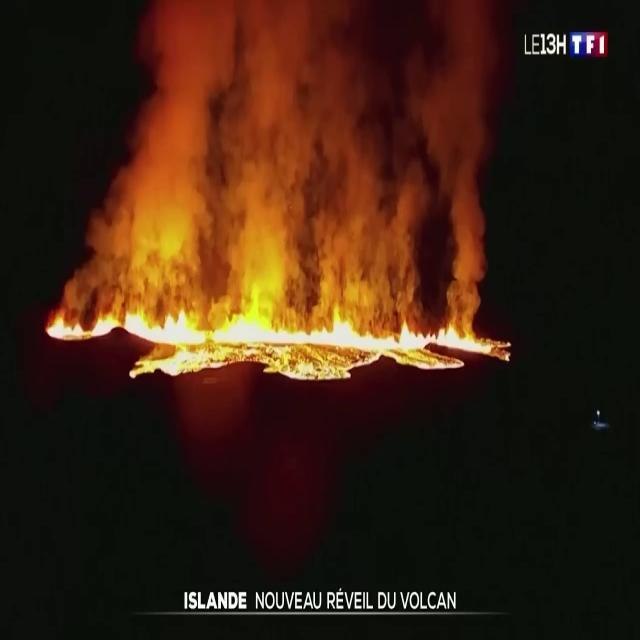Fire: (54, 258, 482, 388)
Smoke: (90, 1, 507, 280)
